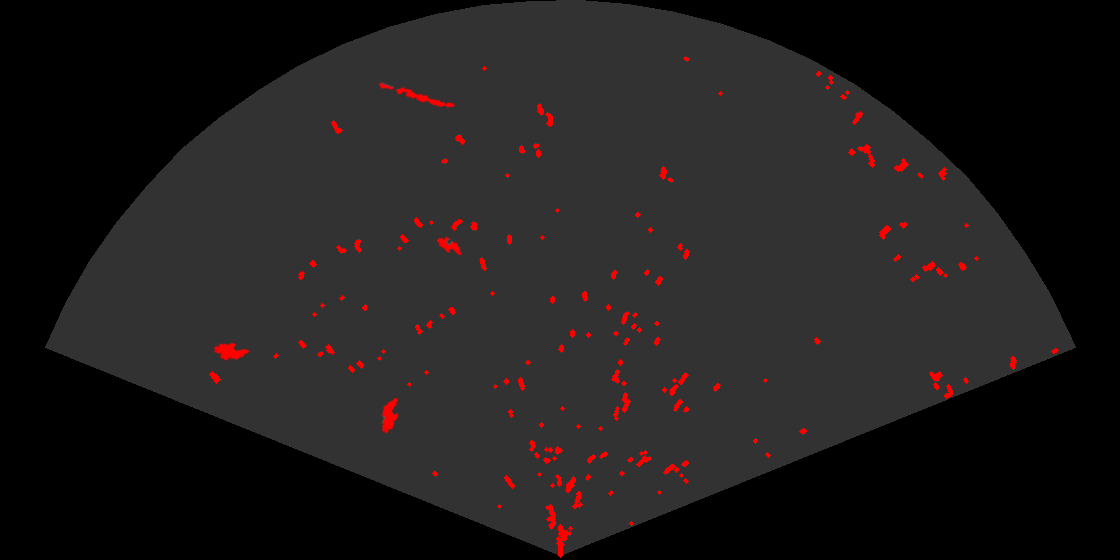AUV: (435, 230, 467, 257), (212, 341, 251, 362), (380, 396, 400, 435)
chain: (373, 80, 457, 109)
